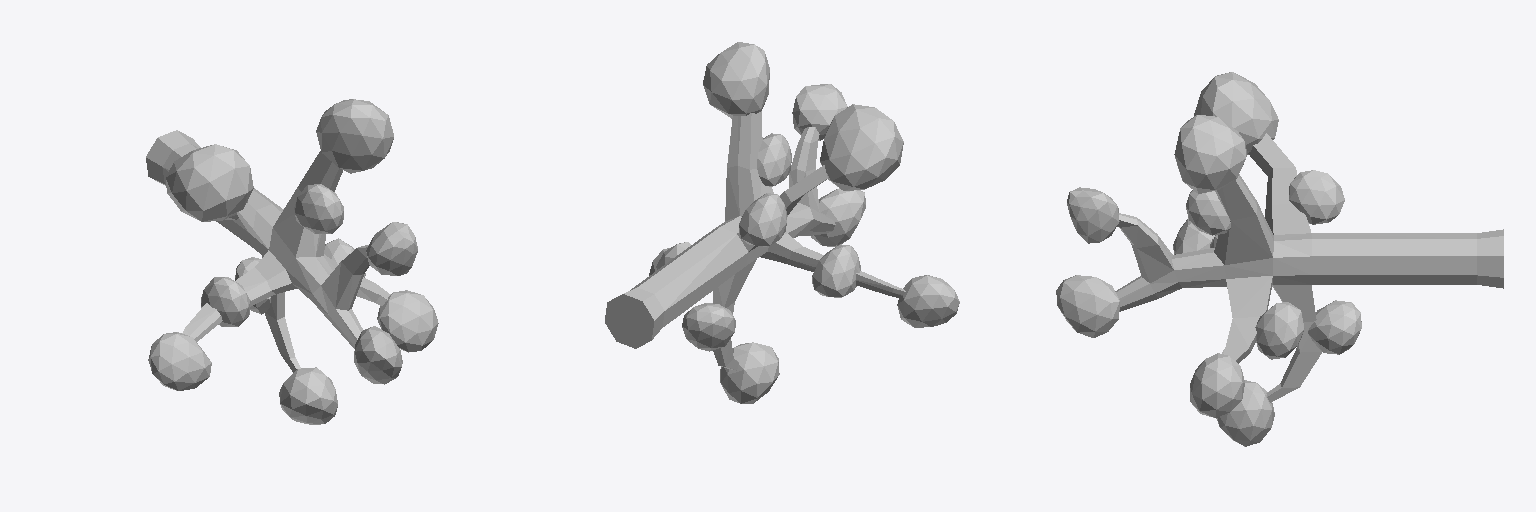
The model's file is tree3.obj.
3 views of the same model, side by side, from view 1: azimuth 30°, elevation 25°; view 2: azimuth 150°, elevation 25°; view 3: azimuth 270°, elevation 25° (orthographic).
Visible parts, largest first — view 1: Cylinder.005_Cylinder.007; view 2: Cylinder.005_Cylinder.007; view 3: Cylinder.005_Cylinder.007.
Part boxes in pixels (x1,y1,x2,y2): Cylinder.005_Cylinder.007: (146,99,438,424); Cylinder.005_Cylinder.007: (605,42,959,403); Cylinder.005_Cylinder.007: (1056,72,1503,446).
Bounding box in the file's own units: 10.61 × 11.66 × 14.08.